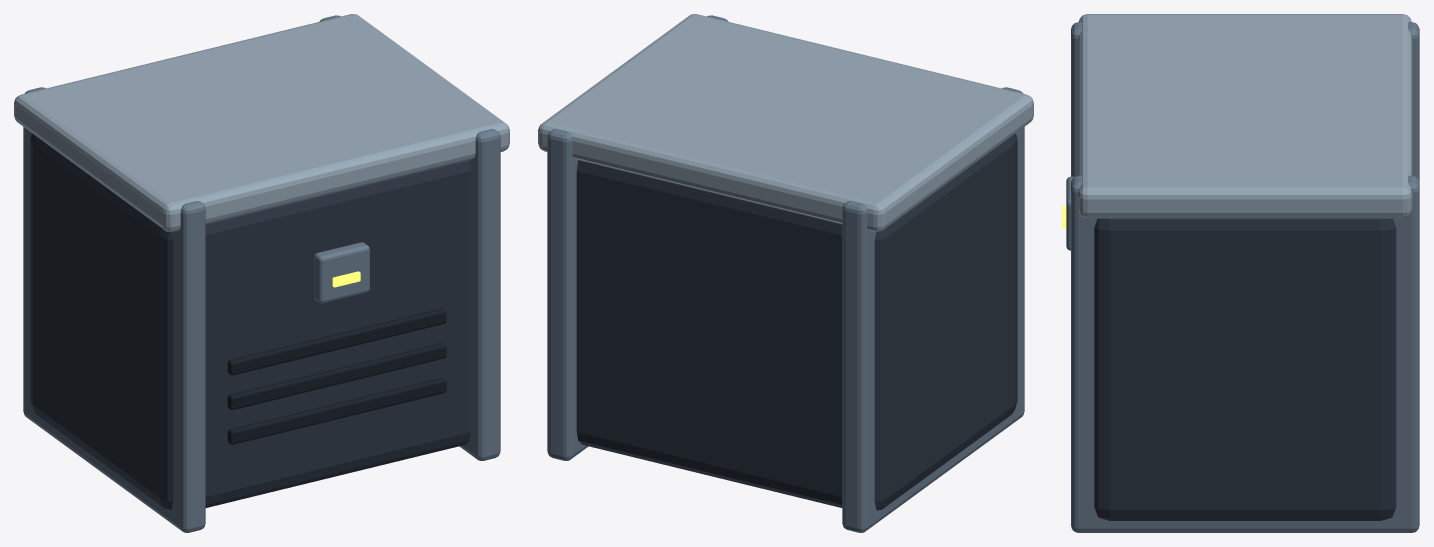
Rendered from Crate.fbx.
The picture shows the model from 3 angles, left to right: view 1: azimuth 30°, elevation 25°; view 2: azimuth 150°, elevation 25°; view 3: azimuth 270°, elevation 25°; orthographic projection. The views are drawn at different scales.
Parts seen in each view (by area): view 1: CrateBody, CrateTop, CrateRib, CrateRib.001, CrateGrille.002, CrateGrille, CrateGrille.001, CrateLatch; view 2: CrateBody, CrateTop, CrateRib, CrateRib.001; view 3: CrateBody, CrateTop, CrateRib.001, CrateRib.
Boxes of the visible parts, x1,y1,x2,y2 form: CrateBody: [30, 133, 471, 510]; CrateTop: [14, 14, 509, 232]; CrateRib: [23, 87, 205, 532]; CrateRib.001: [319, 15, 500, 460]; CrateGrille.002: [227, 308, 446, 375]; CrateGrille: [227, 377, 446, 444]; CrateGrille.001: [227, 343, 446, 409]; CrateLatch: [314, 242, 369, 303]; CrateBody: [576, 133, 1017, 510]; CrateTop: [538, 14, 1033, 232]; CrateRib: [842, 87, 1024, 532]; CrateRib.001: [547, 15, 728, 460]; CrateBody: [1094, 218, 1396, 520]; CrateTop: [1078, 14, 1412, 218]; CrateRib.001: [1071, 175, 1419, 532]; CrateRib: [1071, 22, 1419, 182].
Size of the model in its own units: 1.15 by 1.05 by 0.963.
